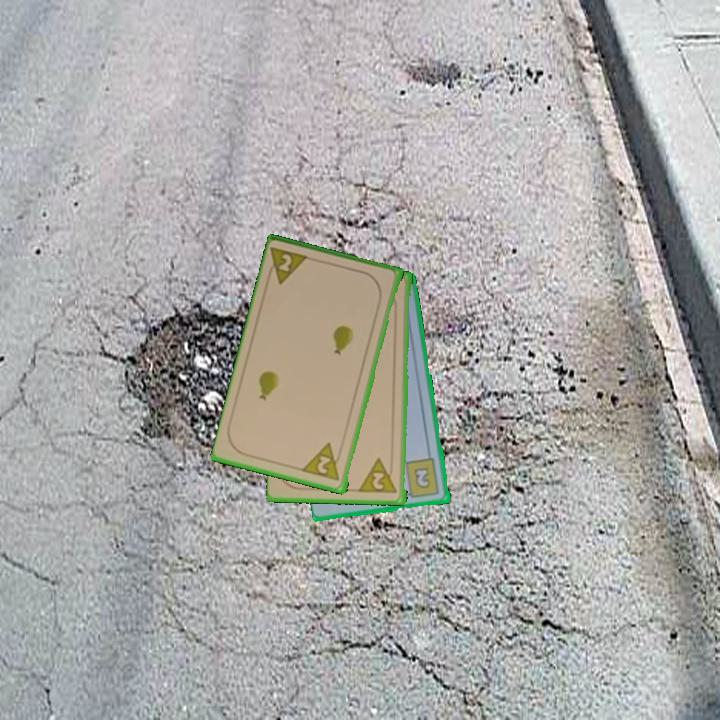2b: (400, 455, 442, 501)
2p: (263, 244, 313, 288), (300, 439, 344, 484), (357, 455, 400, 497)
